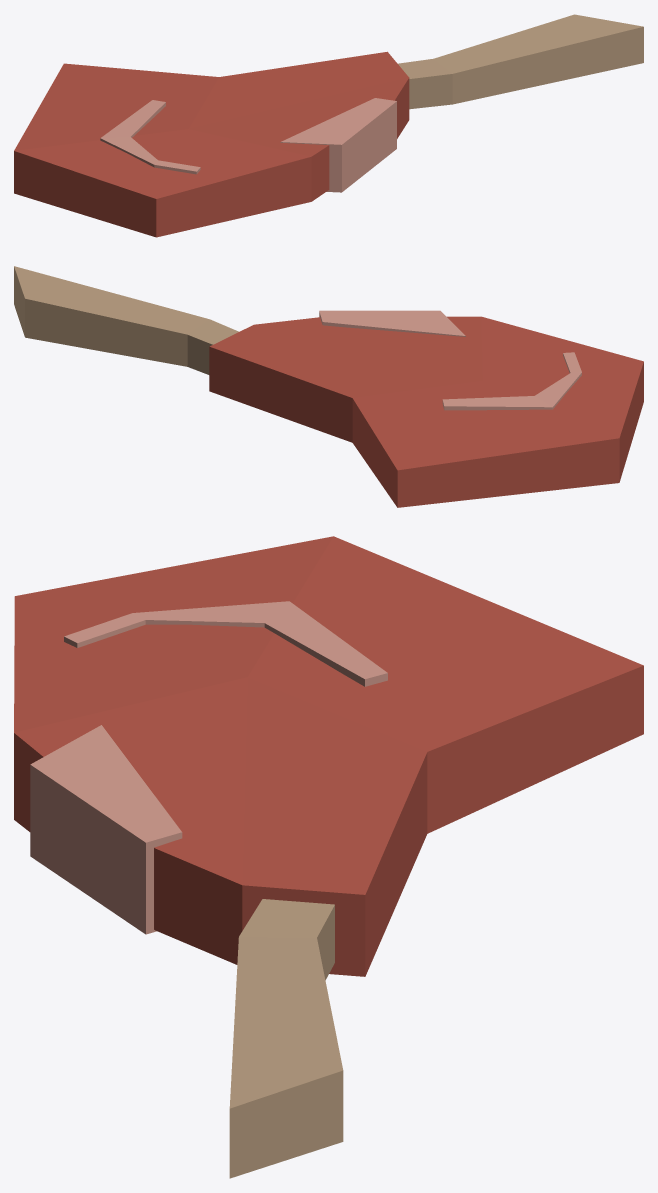
Rendered from tomahawk02.fbx.
The picture shows the model from 3 angles, top to bottom: view 1: azimuth 30°, elevation 25°; view 2: azimuth 150°, elevation 25°; view 3: azimuth 270°, elevation 25°; orthographic projection. The views are drawn at different scales.
Visible parts, largest first — view 1: tomahawk02; view 2: tomahawk02; view 3: tomahawk02.
Boxes of the visible parts, x1,y1,x2,y2 form: tomahawk02: (14,14,643,237); tomahawk02: (14,266,643,507); tomahawk02: (14,536,643,1178).
Size of the model in its own units: 45.39 by 3.52 by 21.33.
Materials: 1 (1 with a texture image).
